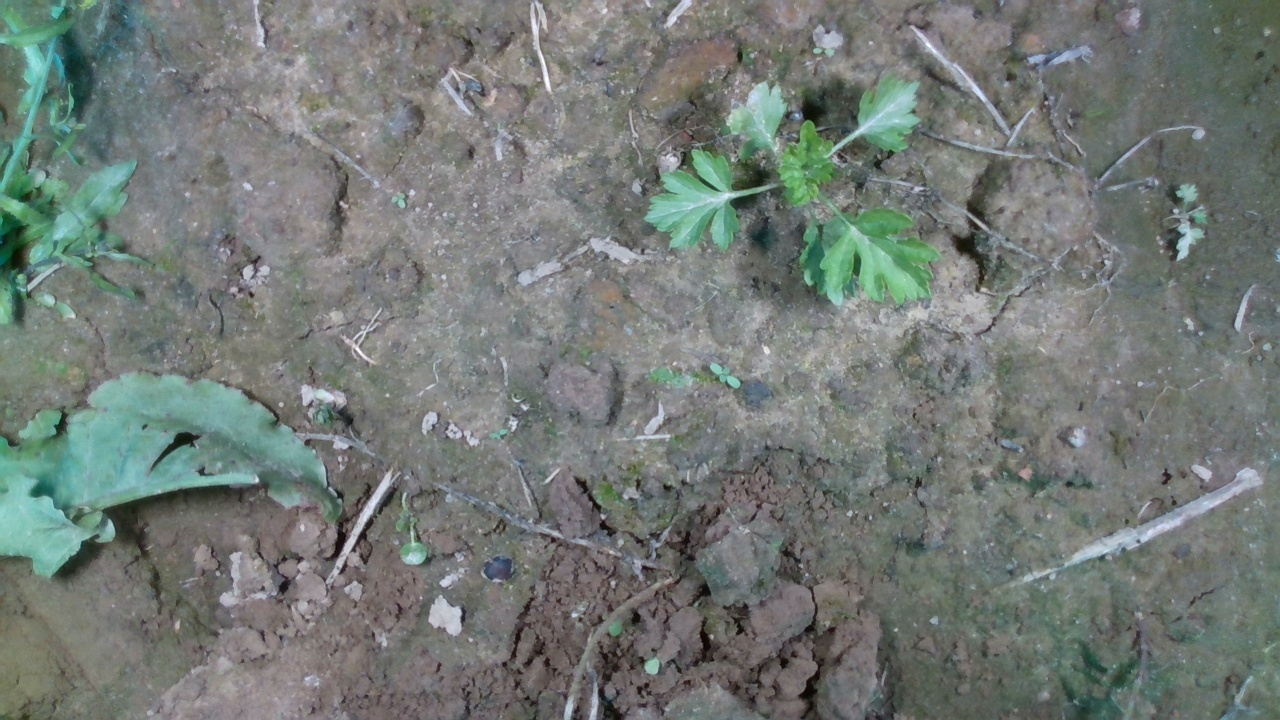weed: (706, 361, 742, 391), (388, 190, 406, 210), (811, 45, 835, 56)
